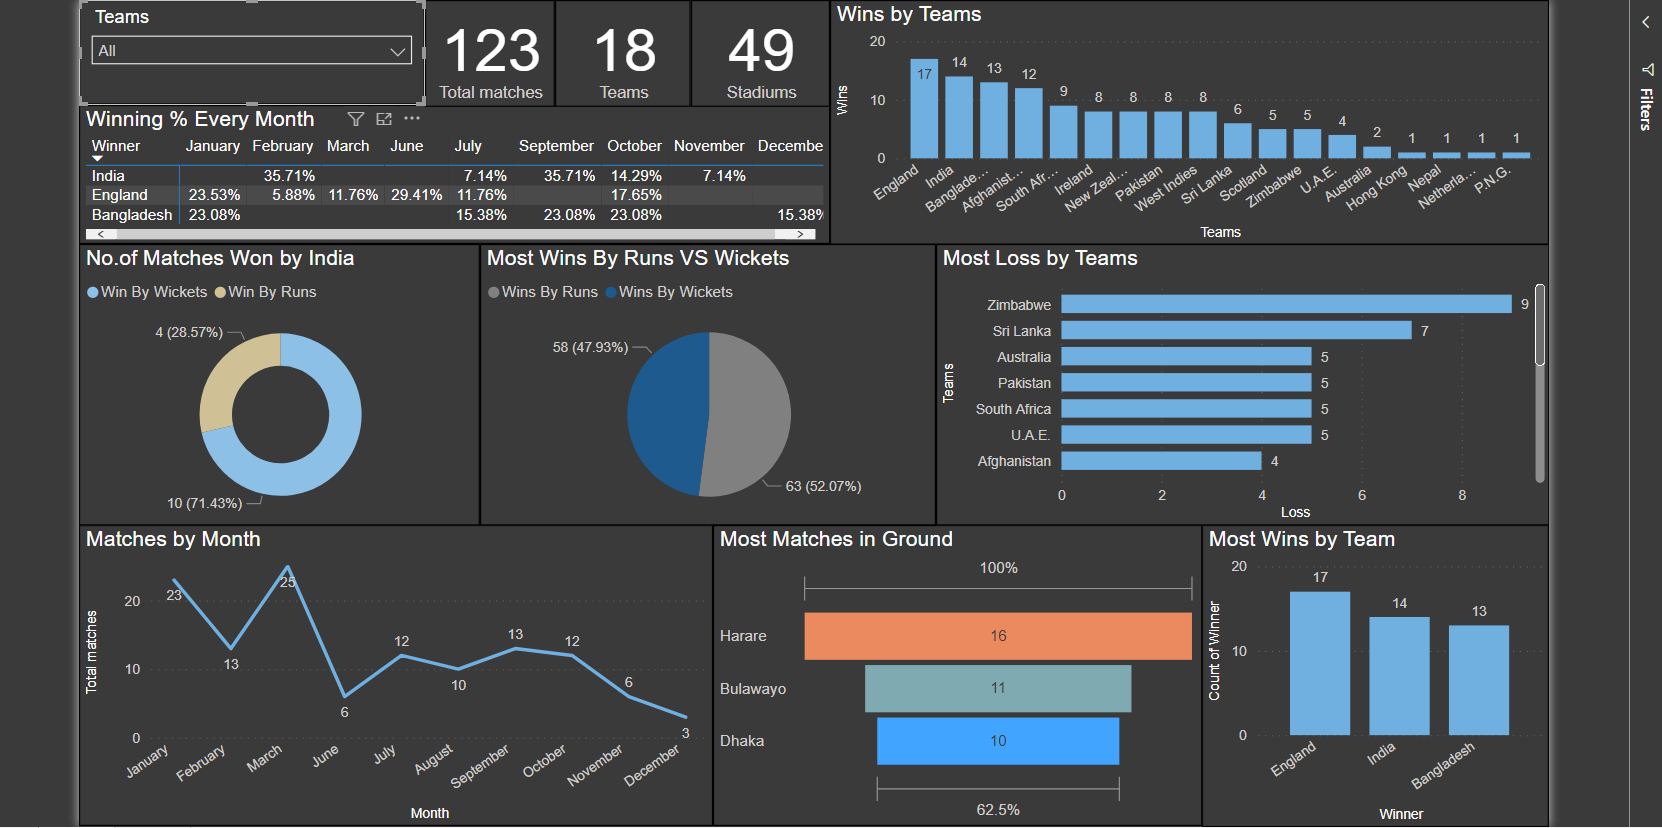

What the dashboard file says about the page in this screenshot:
{"tool":"powerbi","page":{"name":"Page 1","canvas":[1280,720],"ordinal":0},"visuals":[{"type":"lineChart","title":"Matches by Month","fields":{"Category":["Sheet1.Match Date.Variation.Date Hierarchy.Month"],"Y":["Sheet1.Total matches"]},"box":[0,457.3,552.1,262.5],"z":0},{"type":"columnChart","fields":{"Category":["Sheet1.Teams"],"Y":["CountNonNull(Sheet1.Team 1)"]},"box":[653.9,0,626.1,212.6],"z":1000},{"type":"columnChart","title":"Most Wins by Team","fields":{"Category":["Sheet1.Winner"],"Y":["CountNonNull(Sheet1.Winner)"]},"box":[977.7,457.5,302.3,262.8],"z":2000},{"type":"pieChart","title":"Most Wins By Runs VS Wickets","fields":{"Y":["CountNonNull(Sheet1.Win By Runs)","CountNonNull(Sheet1.Win By Wickets)"]},"box":[348.9,212.6,397.4,244.9],"z":3000},{"type":"funnel","title":"Most Matches in Ground","fields":{"Category":["Sheet1.Ground"],"Y":["CountNonNull(Sheet1.Match Date)"]},"box":[551.6,457.5,426.1,261.9],"z":4000},{"type":"donutChart","title":"No.of Matches Won  by India","fields":{"Y":["CountNonNull(Sheet1.Win By Wickets)","CountNonNull(Sheet1.Win By Runs)"]},"box":[0,212.6,348.9,244.9],"z":5000},{"type":"pivotTable","title":"Winning % Every Month","fields":{"Rows":["Sheet1.Winner"],"Columns":["Sheet1.Match Date.Variation.Date Hierarchy.Month"],"Values":["Min(Sheet1.Winner)"]},"box":[0,91.5,653.9,121.1],"z":6000},{"type":"card","fields":{"Values":["Sheet1.Total matches"]},"box":[301.4,0,113,93.3],"z":7000},{"type":"card","fields":{"Values":["Count(Sheet1.Teams)"]},"box":[414.4,0,118.4,93.3],"z":8000},{"type":"card","fields":{"Values":["Count(Sheet1.Ground)"]},"box":[532.8,0,121.1,93.3],"z":9000},{"type":"clusteredBarChart","title":"Most Loss by Teams","fields":{"Category":["Sheet1.Lost While Chasing"],"Y":["CountNonNull(Sheet1.Lost While Chasing)"]},"box":[746.3,212.6,533.7,244.9],"z":10000},{"type":"slicer","fields":{"Values":["Sheet1.Teams"]},"box":[0,0,301.4,91.5],"z":11000}]}

Visuals, with their boxes on the page's 1280x720 design canvas (x1, y1, x2, y2). These are canvas units, not pixel positions in the 1662x828 screenshot, which may show the page scaled, cropped or inside an application window:
"Matches by Month" lineChart: box=[0, 457, 552, 720]
columnChart - Sheet1.Teams x CountNonNull(Sheet1.Team 1): box=[654, 0, 1280, 213]
"Most Wins by Team" columnChart: box=[978, 458, 1280, 720]
"Most Wins By Runs VS Wickets" pieChart: box=[349, 213, 746, 458]
"Most Matches in Ground" funnel: box=[552, 458, 978, 719]
"No.of Matches Won  by India" donutChart: box=[0, 213, 349, 458]
"Winning % Every Month" pivotTable: box=[0, 92, 654, 213]
card - Sheet1.Total matches: box=[301, 0, 414, 93]
card - Count(Sheet1.Teams): box=[414, 0, 533, 93]
card - Count(Sheet1.Ground): box=[533, 0, 654, 93]
"Most Loss by Teams" clusteredBarChart: box=[746, 213, 1280, 458]
slicer - Sheet1.Teams: box=[0, 0, 301, 92]
